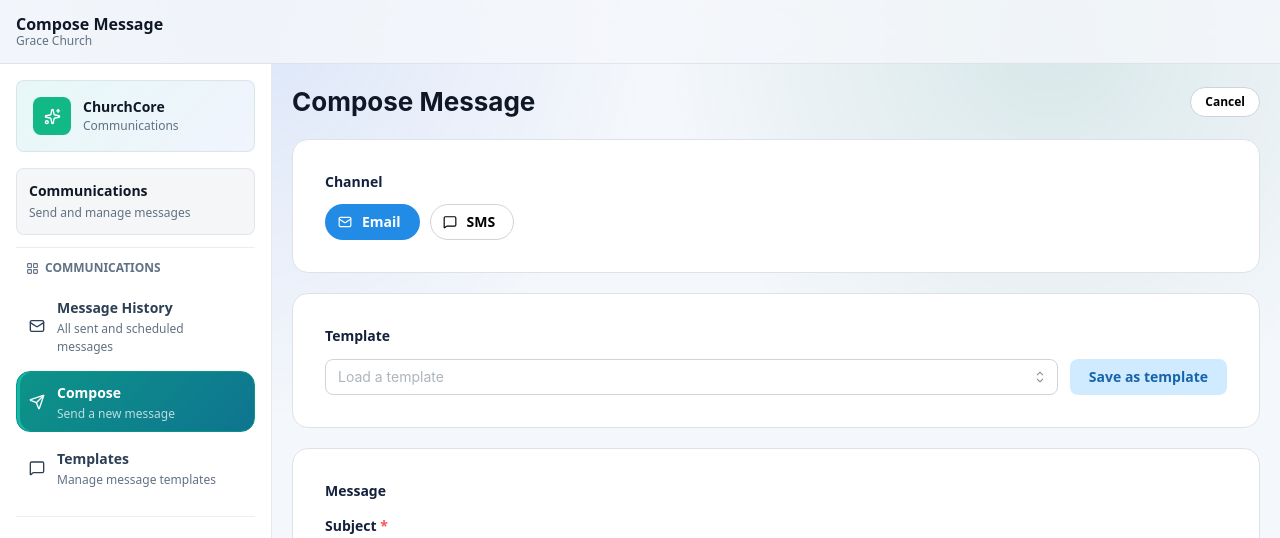
Test: CommunicationsComposeClient — SMS channel behavior › hides the Subject field when SMS channel is selected
What coordinates should you click on to do the following:
click the button "SMS"
I would click on:
 (472, 222)
Its box is [430,204,514,240].
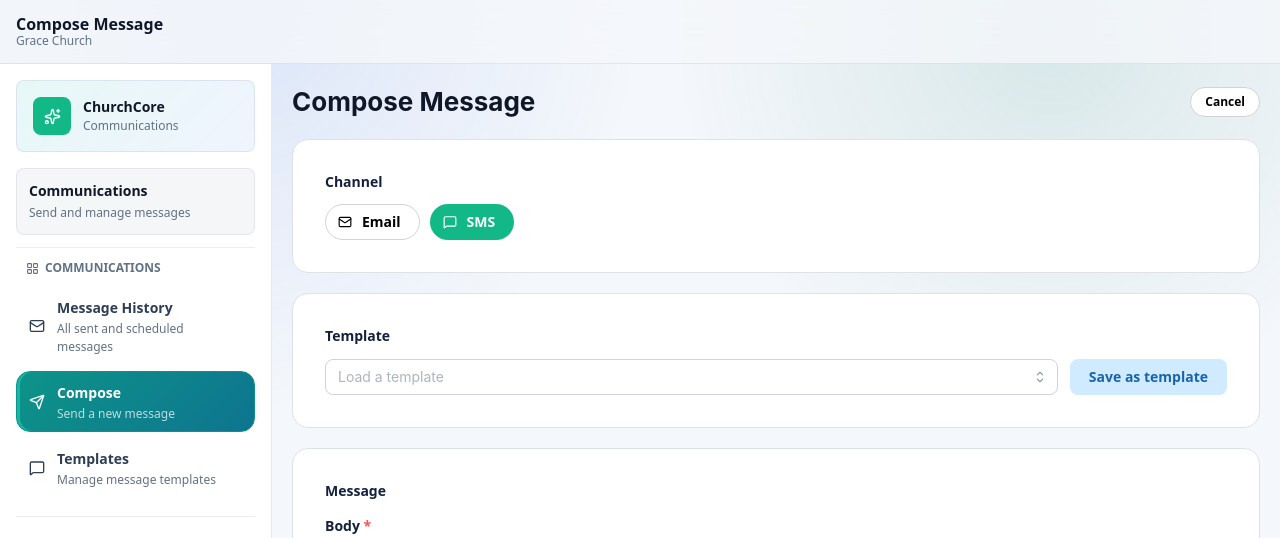
Check: the label "Subject" is gone
